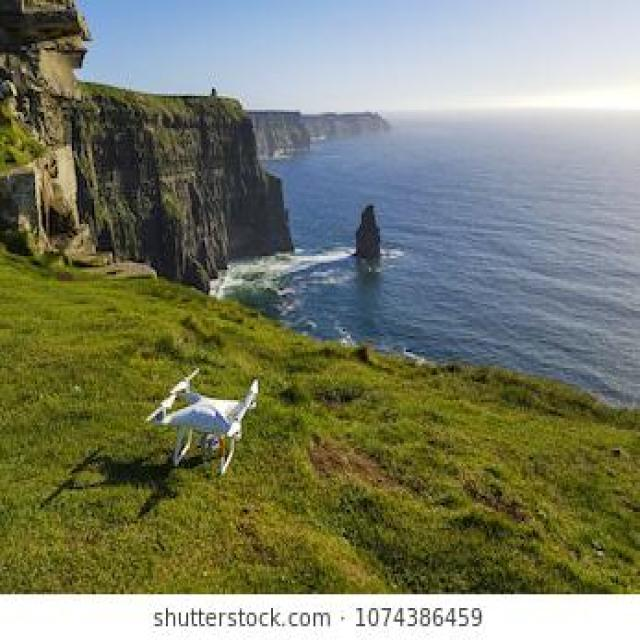drone: (137, 356, 276, 486)
